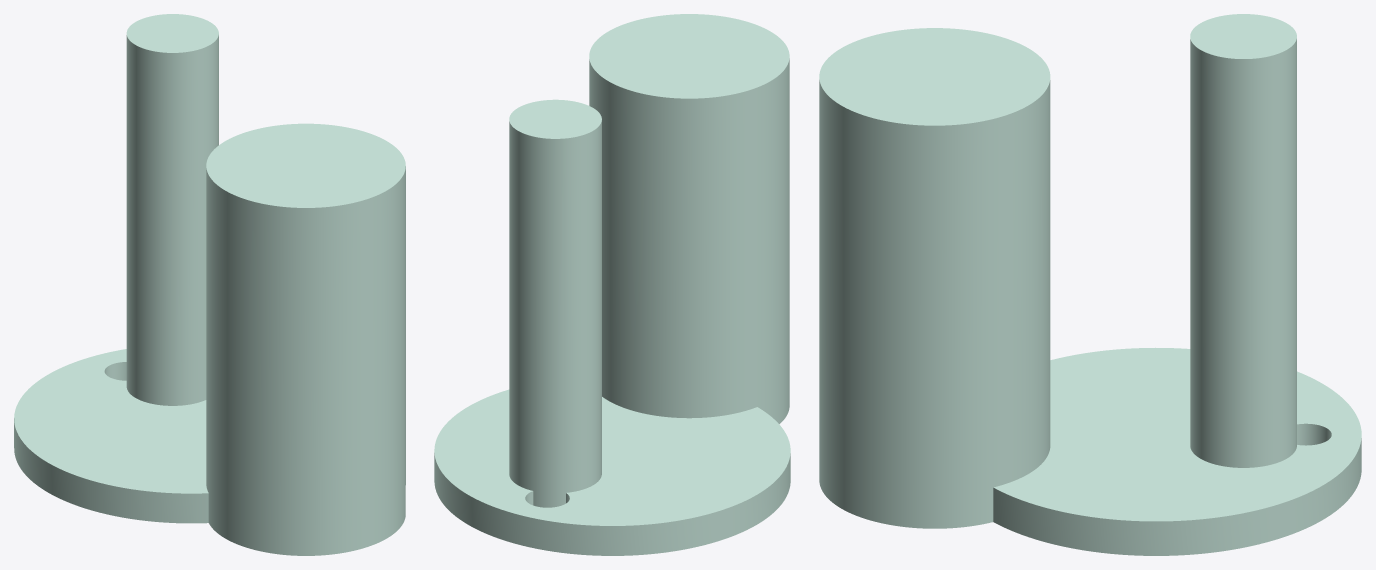
The picture shows the model from 3 angles, left to right: view 1: azimuth 30°, elevation 25°; view 2: azimuth 150°, elevation 25°; view 3: azimuth 270°, elevation 25°; orthographic projection. The views are drawn at different scales.
Parts seen in each view (by area): view 1: Renderer Node; view 2: Renderer Node; view 3: Renderer Node.
Boxes of the visible parts, left/top/right/bottom form: Renderer Node: left=14, top=14, right=405, bottom=555; Renderer Node: left=434, top=14, right=790, bottom=555; Renderer Node: left=819, top=14, right=1361, bottom=555.
Size of the model in its own units: 0.5052 by 0.6016 by 0.667.
